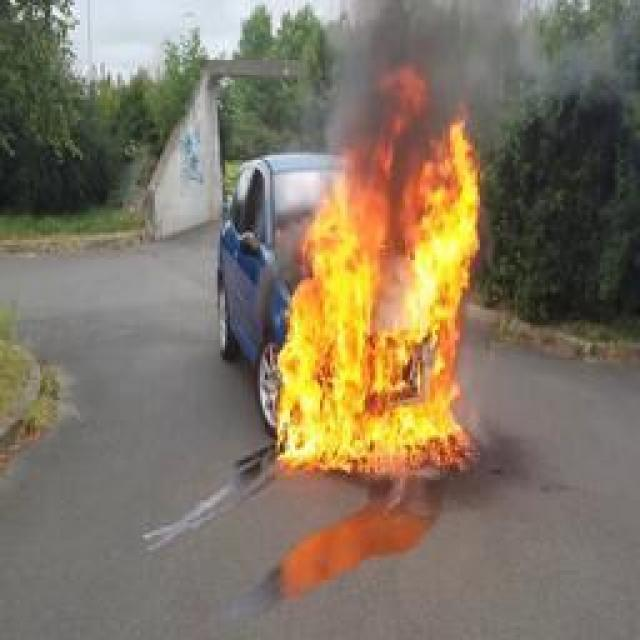Fire: (276, 65, 482, 465)
